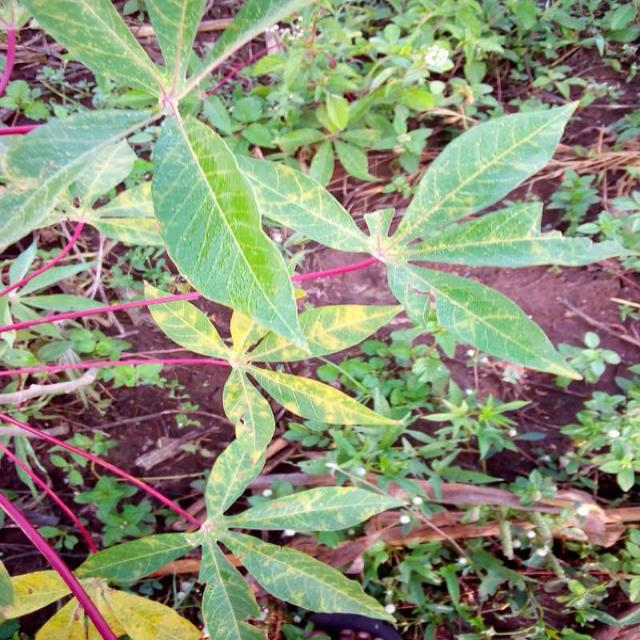cassava leaf: (2, 0, 633, 638), (151, 108, 312, 359)
